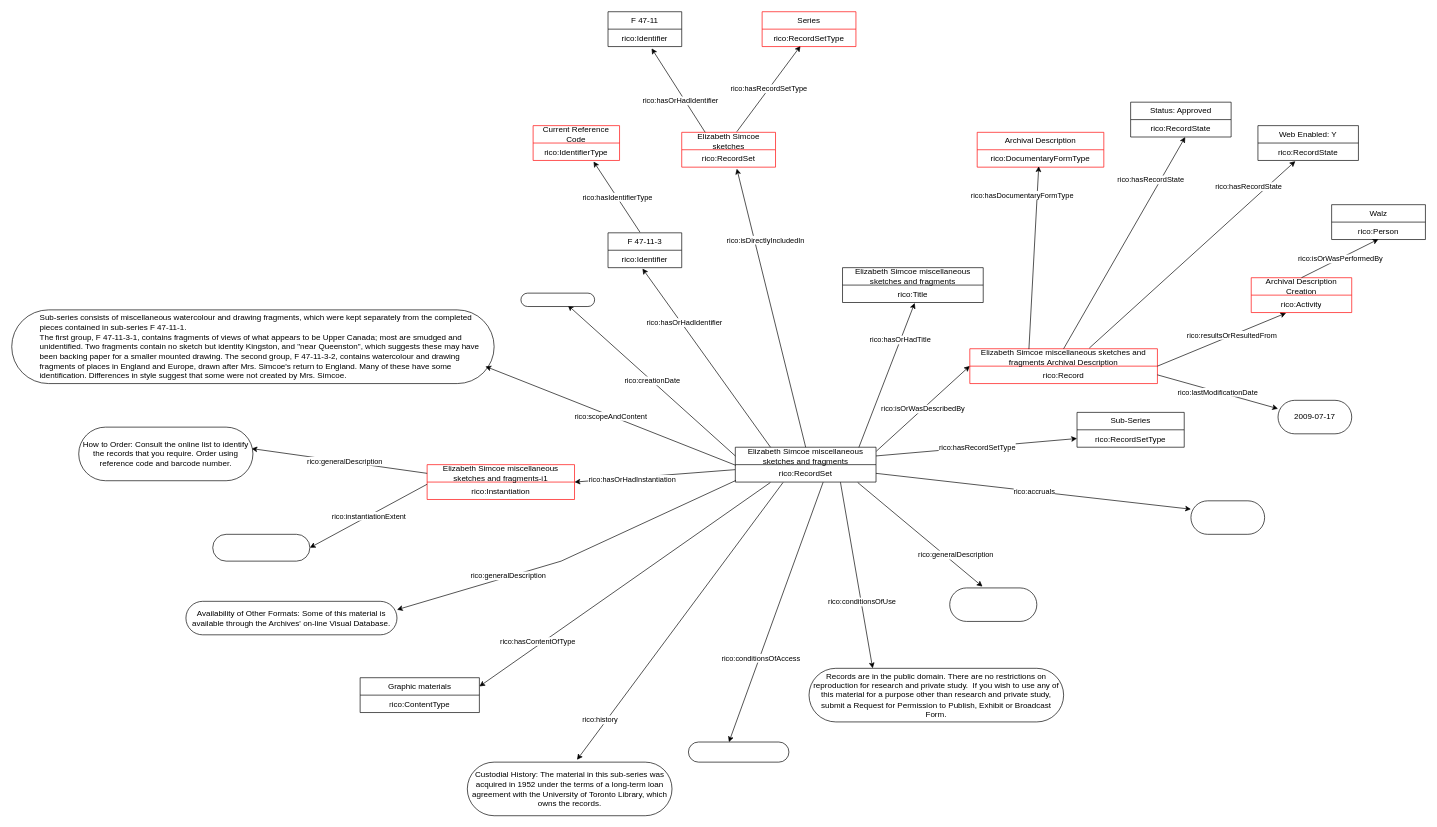
The diagram is 1437 pixels wide and 827 high, and some of its shapes have lost their labels. The centre of each missing label's shape, as x and y in pixels:
35 watercolours 5 drawings: the point at 261,547
[ca. 1790-1840]: the point at 557,299
Finding Aid Note: An online list is available for this sub-series.: the point at 993,604
No further accruals are expected.: the point at 1227,517
No restrictions on access.: the point at 738,751
